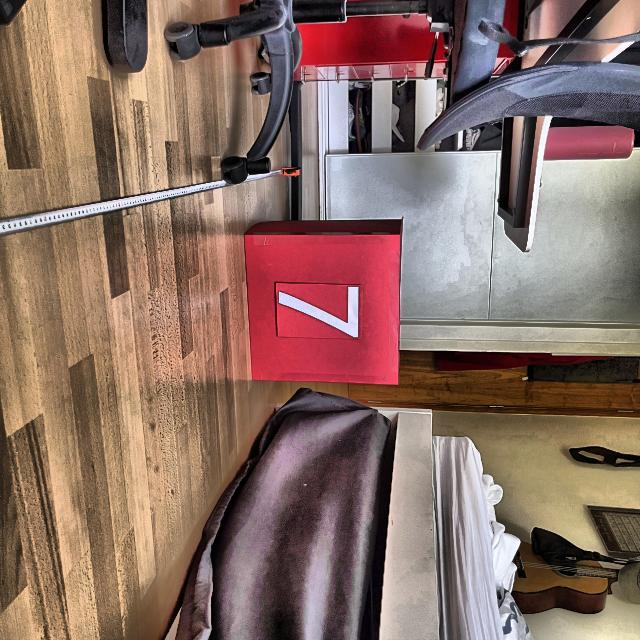red box: (244, 219, 400, 383)
seven: (278, 286, 361, 339)
